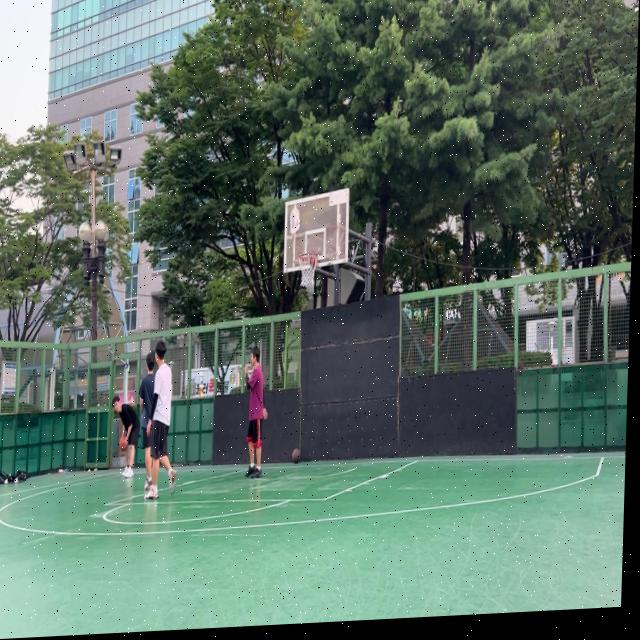basketball: (292, 447, 301, 464), (119, 436, 127, 451)
hoop: (297, 252, 319, 287)
